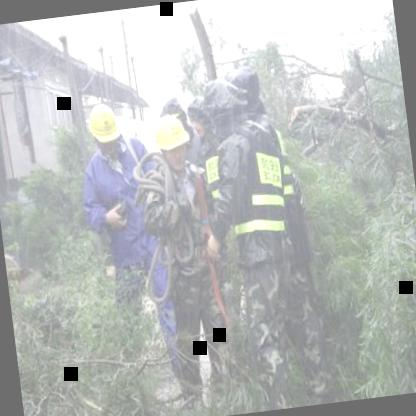helmet: (150, 110, 192, 172), (82, 97, 125, 155)
